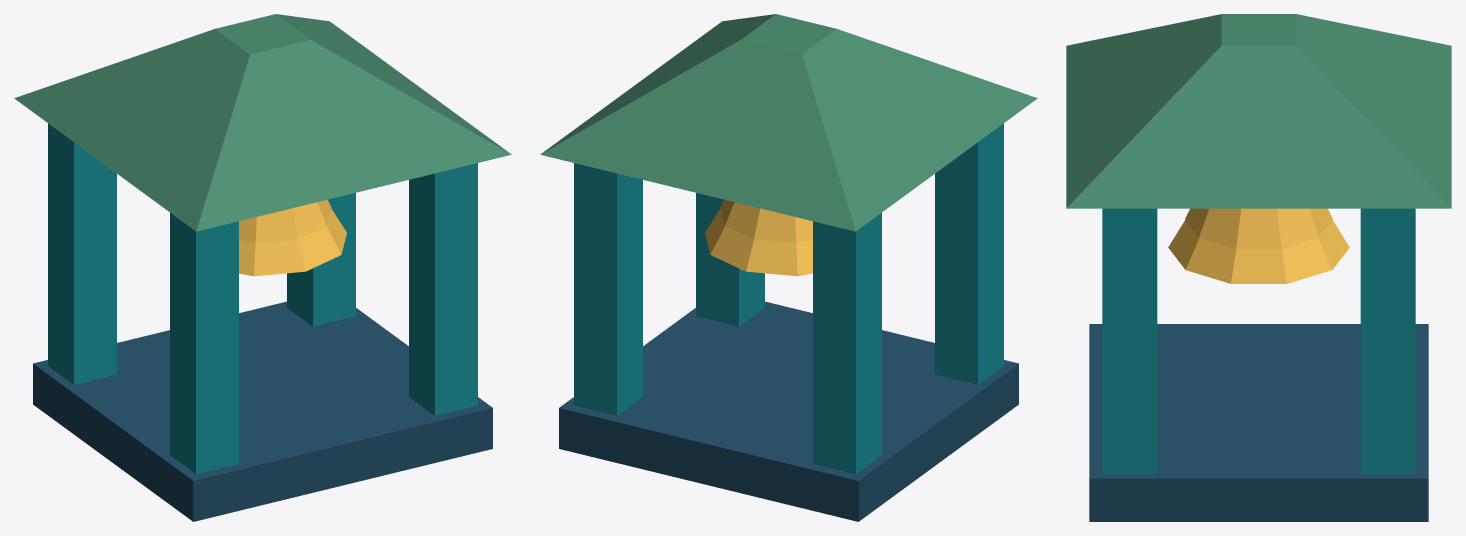
The model's file is bell-tower.glb.
The picture shows the model from 3 angles, left to right: view 1: azimuth 30°, elevation 25°; view 2: azimuth 150°, elevation 25°; view 3: azimuth 270°, elevation 25°; orthographic projection. The views are drawn at different scales.
Parts seen in each view (by area): view 1: Roof, Plinth, Post, Post.002, Post.001, Post.003, Bell rim, Bell shoulder; view 2: Roof, Plinth, Post.001, Post.003, Post, Post.002, Bell rim, Bell shoulder; view 3: Roof, Plinth, Post.002, Post.003, Bell rim, Bell shoulder.
Part boxes in pixels (left/top/right/bottom): Roof: left=14, top=14, right=511, bottom=231; Plinth: left=33, top=301, right=492, bottom=521; Post: left=170, top=213, right=238, bottom=474; Post.002: left=409, top=163, right=477, bottom=415; Post.001: left=48, top=123, right=116, bottom=384; Post.003: left=287, top=193, right=355, bottom=326; Bell rim: left=239, top=208, right=346, bottom=276; Bell shoulder: left=239, top=199, right=331, bottom=242; Roof: left=540, top=14, right=1037, bottom=231; Plinth: left=559, top=301, right=1018, bottom=521; Post.001: left=813, top=213, right=881, bottom=474; Post.003: left=574, top=163, right=642, bottom=415; Post: left=935, top=123, right=1003, bottom=384; Post.002: left=696, top=193, right=764, bottom=326; Bell rim: left=705, top=208, right=812, bottom=276; Bell shoulder: left=720, top=199, right=812, bottom=242; Roof: left=1066, top=14, right=1451, bottom=208; Plinth: left=1089, top=324, right=1428, bottom=521; Post.002: left=1102, top=208, right=1157, bottom=473; Post.003: left=1360, top=208, right=1415, bottom=473; Bell rim: left=1168, top=220, right=1349, bottom=283; Bell shoulder: left=1185, top=208, right=1332, bottom=248.
Bounding box in the file's own units: 1.61 × 1.92 × 1.61.
